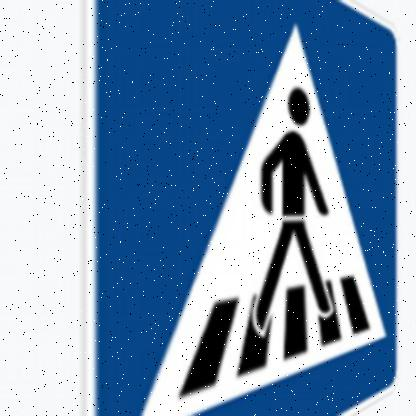Pedestrian Crossing: (84, 4, 404, 416)
